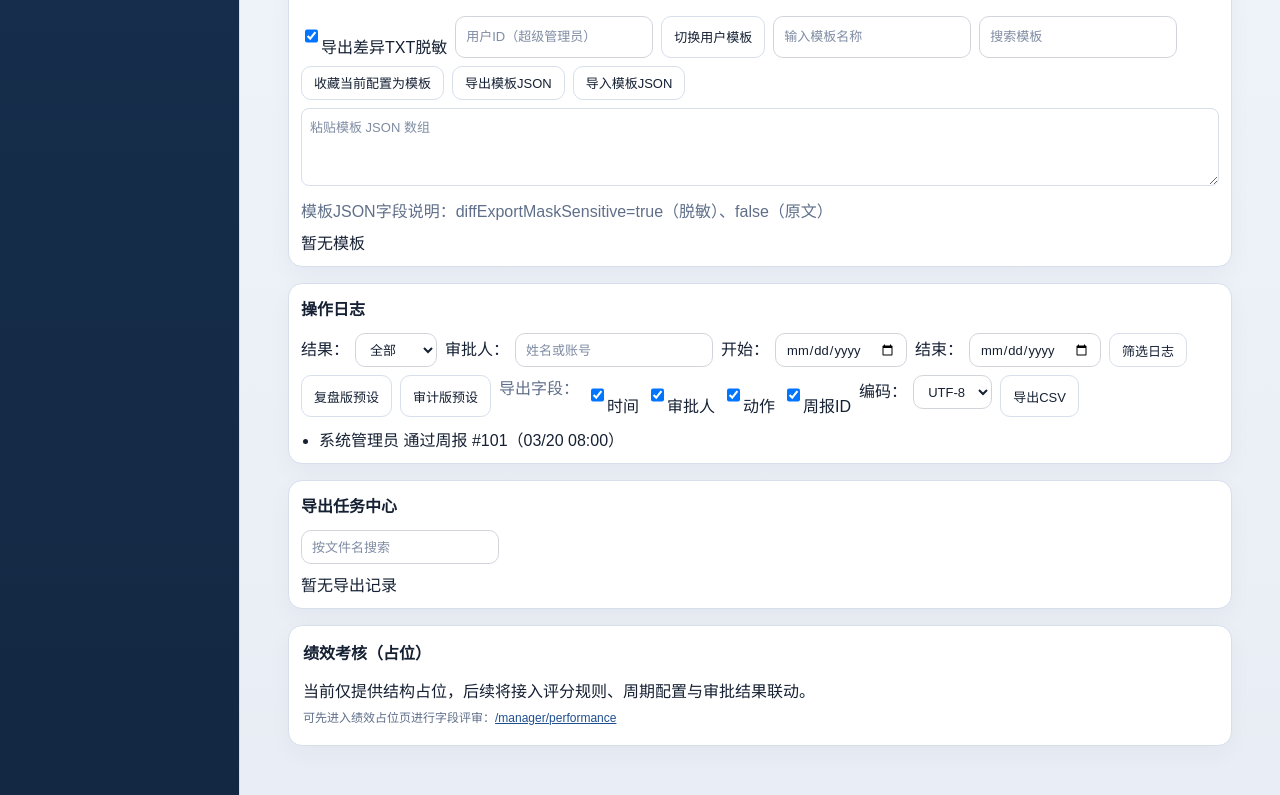
it: ManagerReviewsPage › exports selected fields with gbk encoding option
(page scrolled)
Click the checkbox named "导出字段-时间".
click(598, 395)  # box [591,378,604,412]
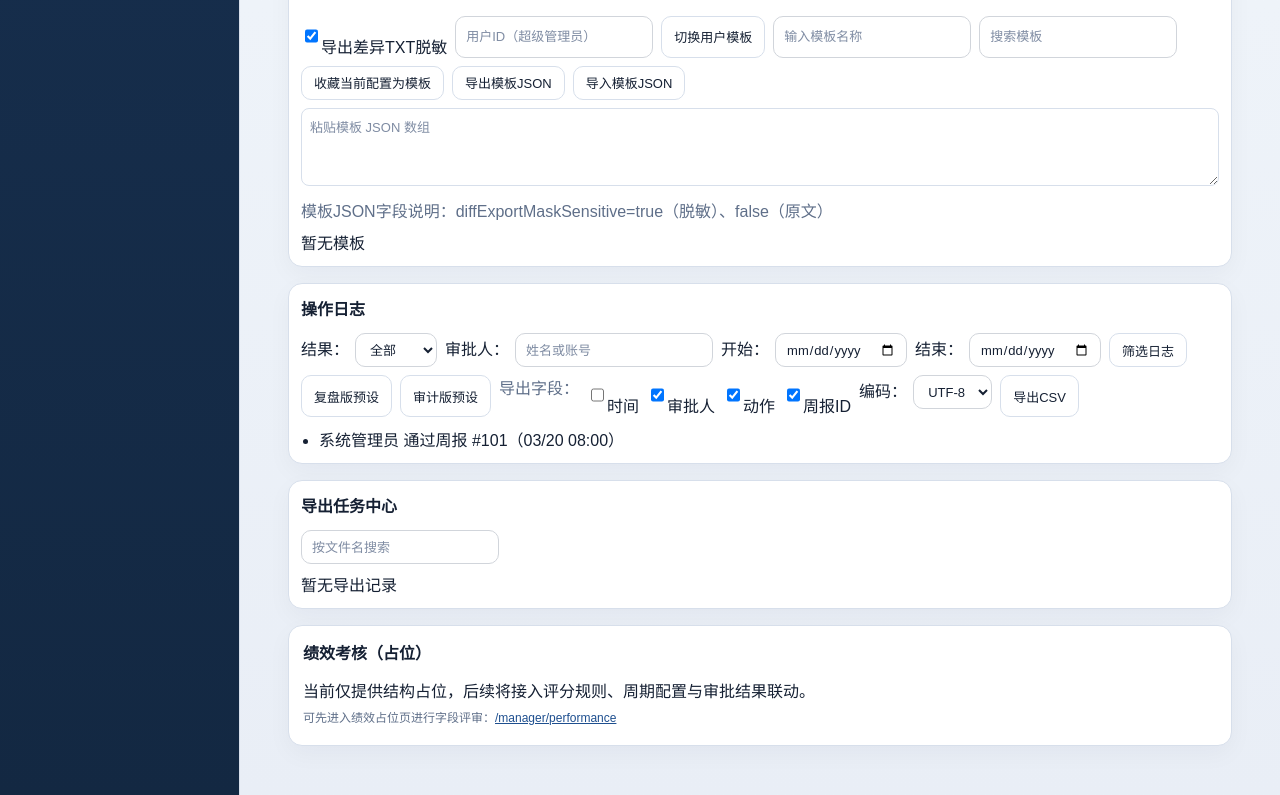
Select "GBK" in the dropdown named "导出编码" at {"x": 953, "y": 392}, box [913,375,992,409]
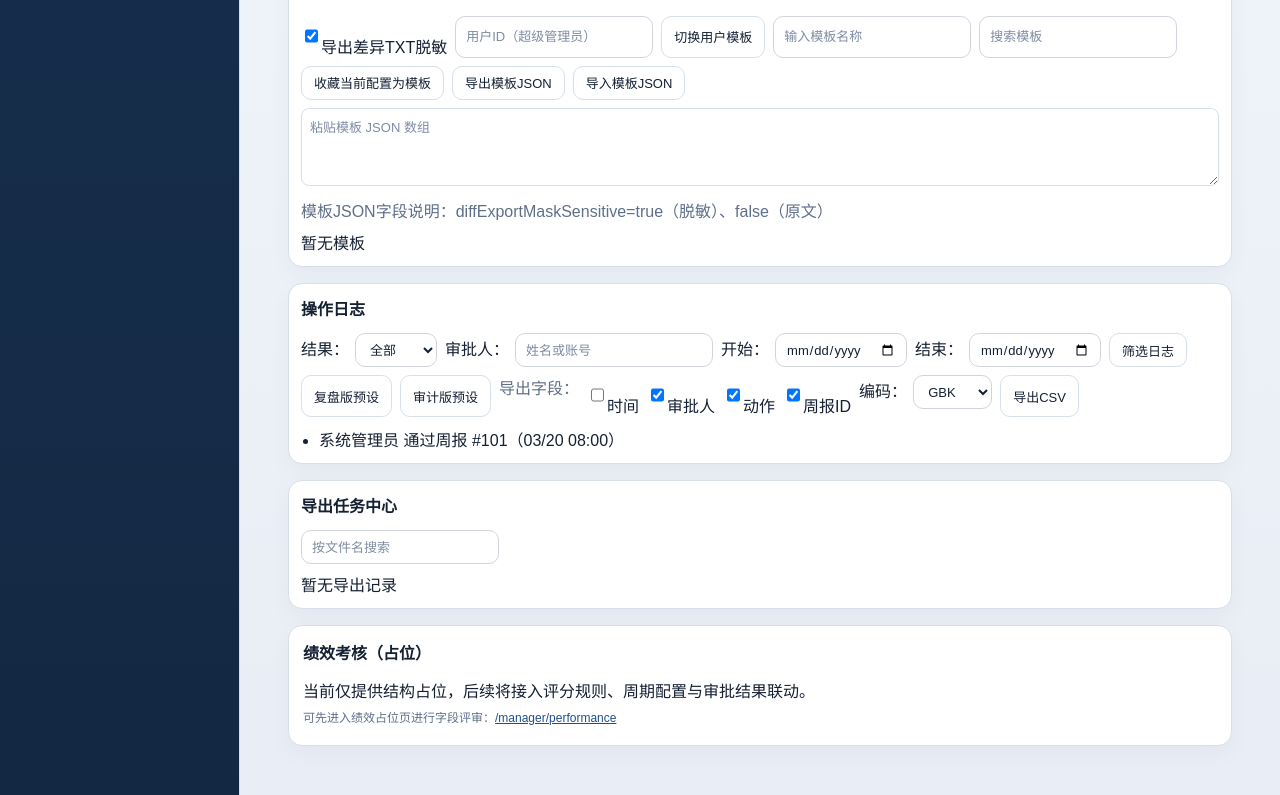
Click the button "导出CSV".
click(1039, 396)  # box [1000,375,1079,417]
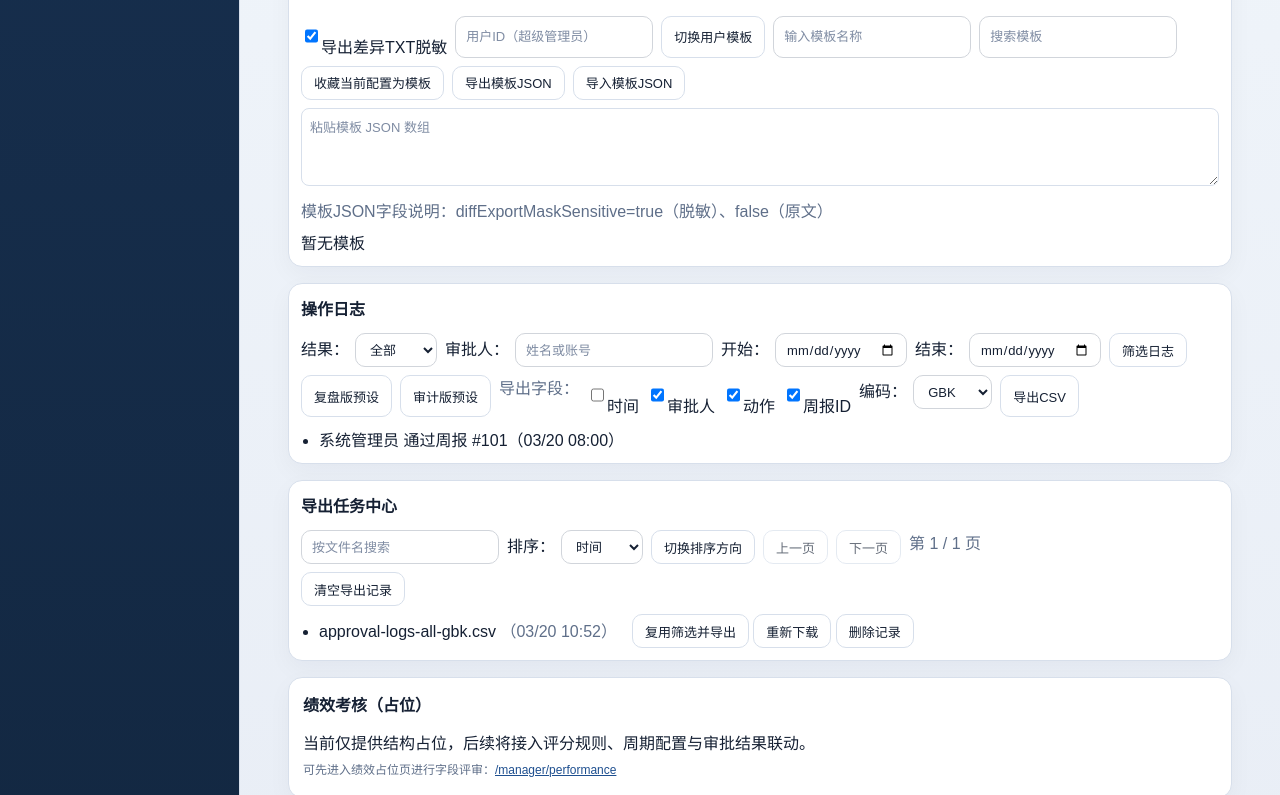
Result: the text "approval-logs-all-gbk.csv" is shown at [319,623,496,640]
